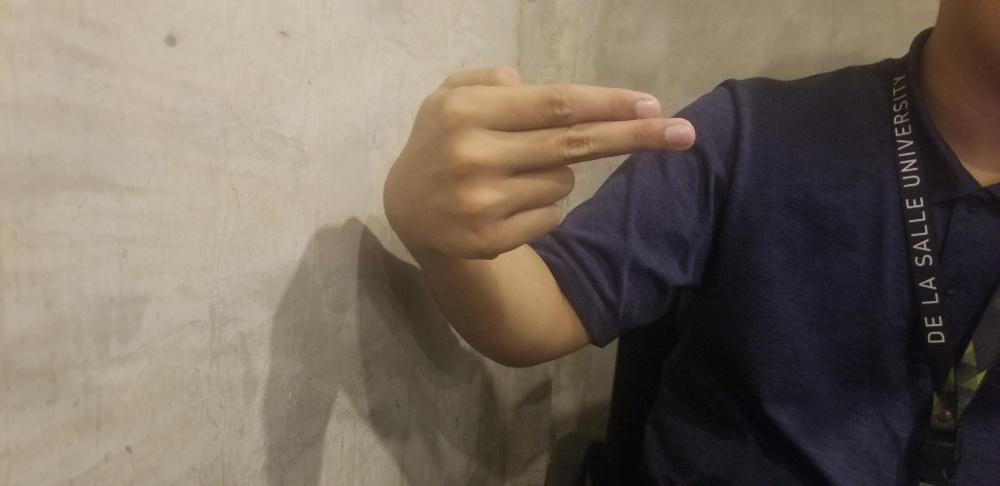h: (413, 70, 694, 257)
